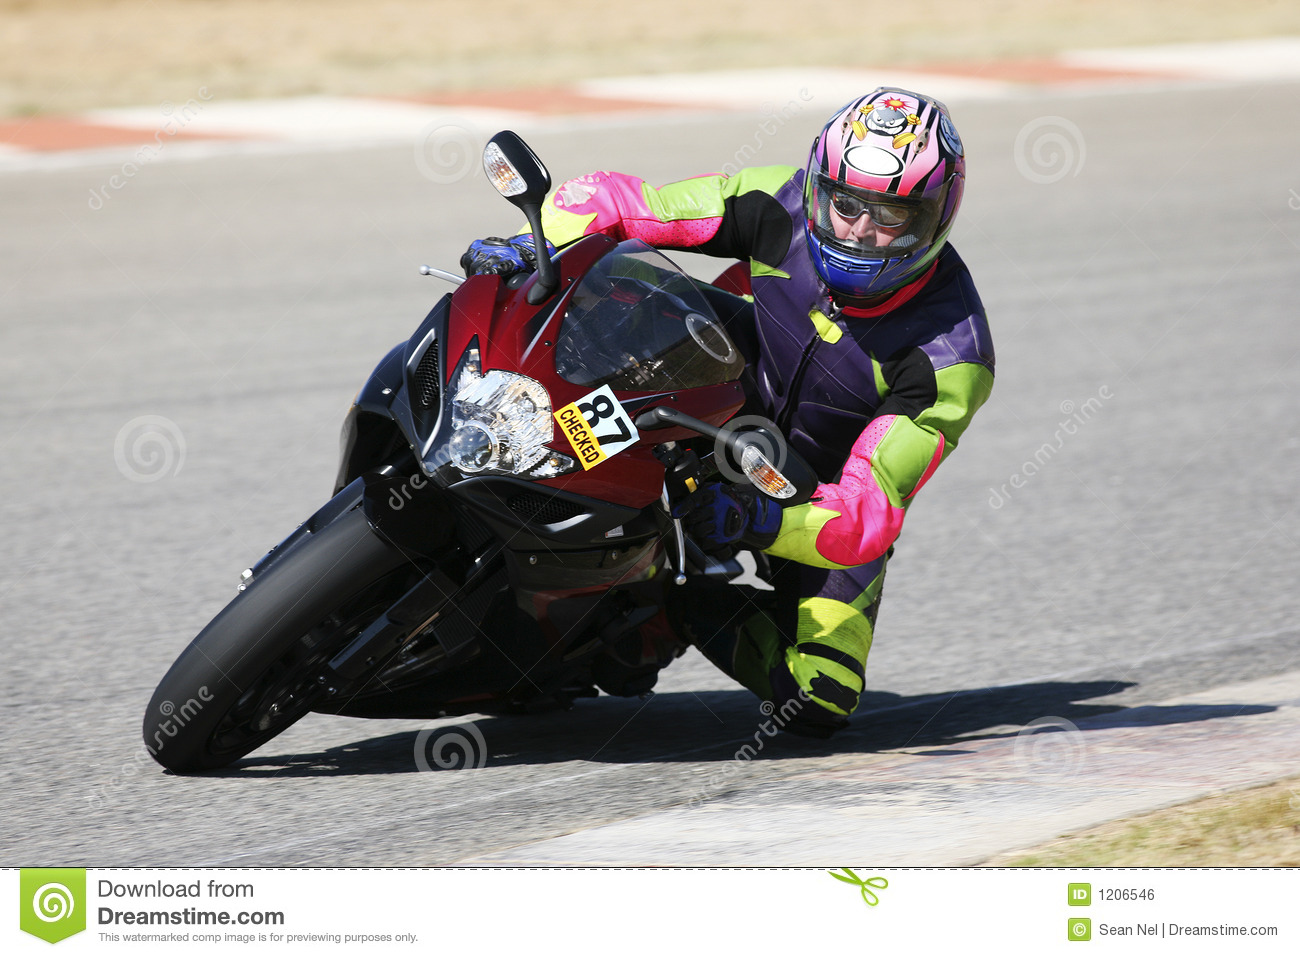helmet: (798, 79, 973, 319)
